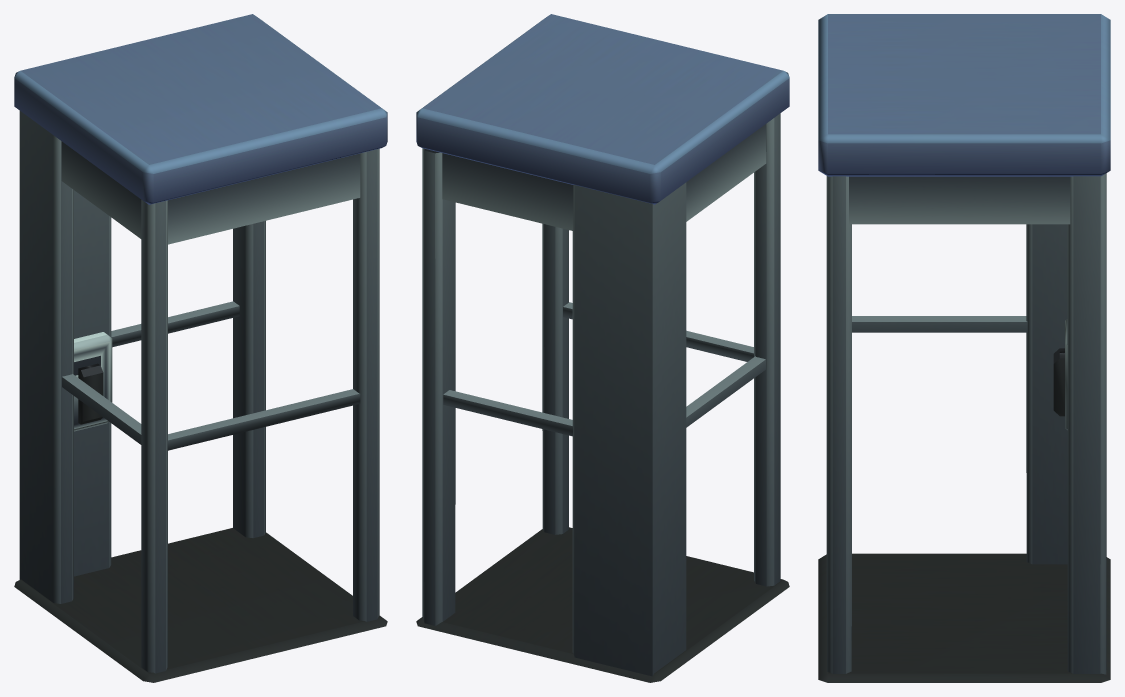
File: phone_booth.fbx
3 views of the same model, side by side, from view 1: azimuth 30°, elevation 25°; view 2: azimuth 150°, elevation 25°; view 3: azimuth 270°, elevation 25° (orthographic). The views are drawn at different scales.
Visible parts, largest first — view 1: phone_booth, phonebooth_phone; view 2: phone_booth; view 3: phone_booth, phonebooth_phone.
Part boxes in pixels (x1,y1,x2,y2): phone_booth: (14, 14, 387, 682); phonebooth_phone: (78, 363, 103, 424); phone_booth: (416, 14, 789, 682); phone_booth: (818, 14, 1110, 682); phonebooth_phone: (1053, 348, 1064, 416).
Size of the model in its own units: 128 by 258 by 125.
